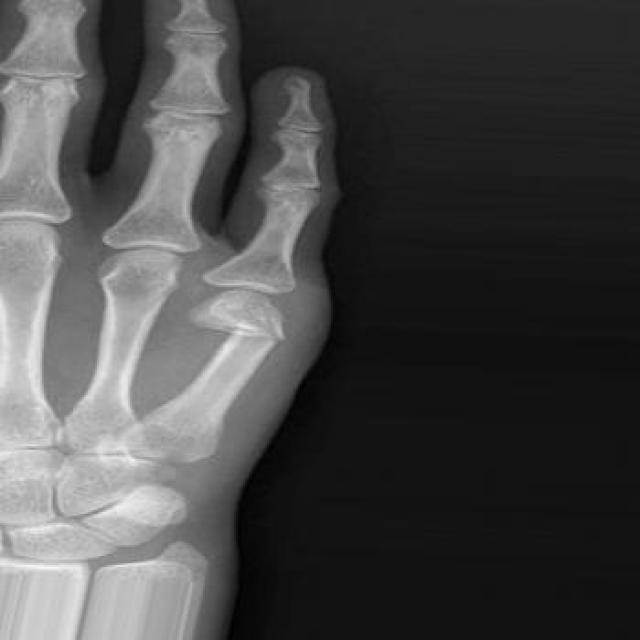Fracture: (176, 302, 288, 349)
